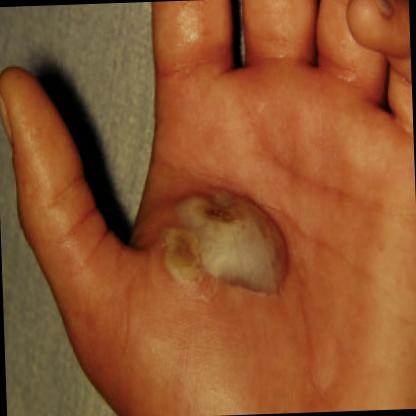Warts: (151, 154, 301, 320)
